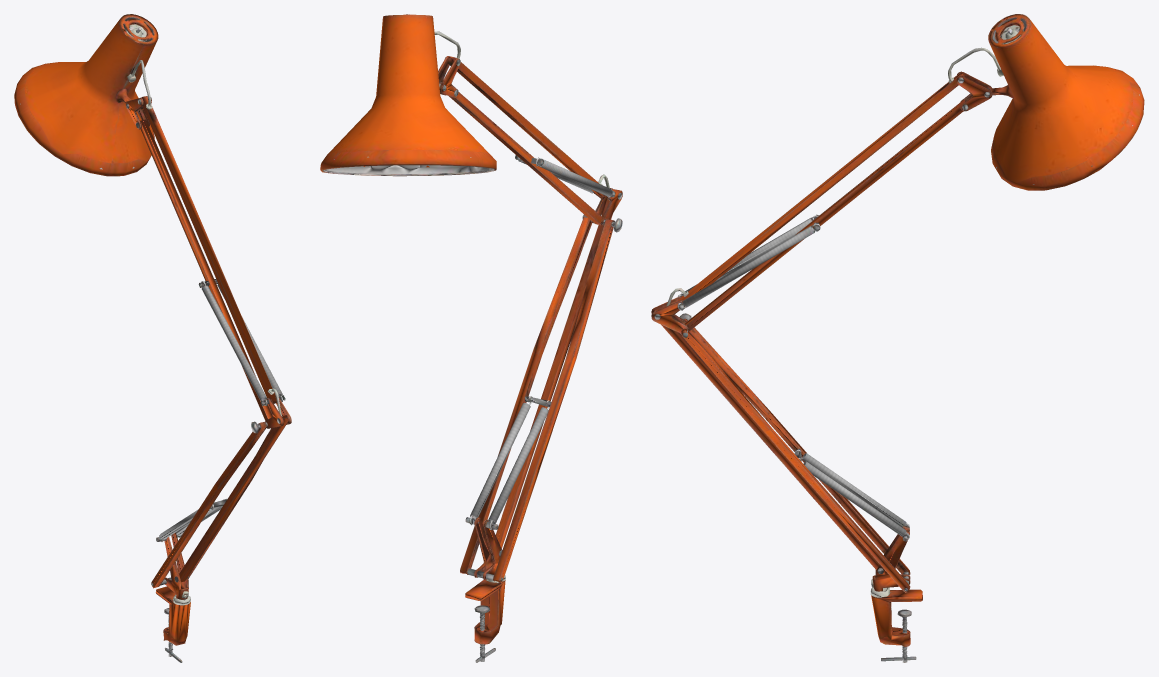
Rendered from desk_lamp_arm_01.gltf.
3 renders of one model, left to right at view 1: azimuth 30°, elevation 25°; view 2: azimuth 150°, elevation 25°; view 3: azimuth 270°, elevation 25°, orthographic. The views are drawn at different scales.
Visible parts, largest first — view 1: desk_lamp_arm_01; view 2: desk_lamp_arm_01; view 3: desk_lamp_arm_01.
Boxes of the visible parts, bbox=[...] form: desk_lamp_arm_01: bbox=[14, 14, 291, 662]; desk_lamp_arm_01: bbox=[320, 14, 622, 662]; desk_lamp_arm_01: bbox=[651, 14, 1144, 662].
Bounding box in the file's own units: 0.2015 × 0.8926 × 0.6138.
Materials: 2 (2 with a texture image).
